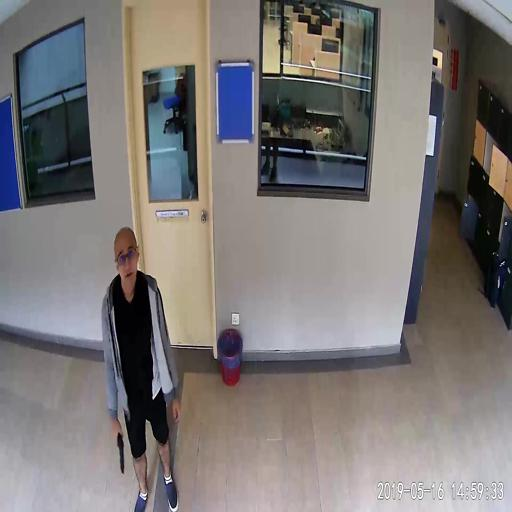pistol: (114, 427, 124, 472)
